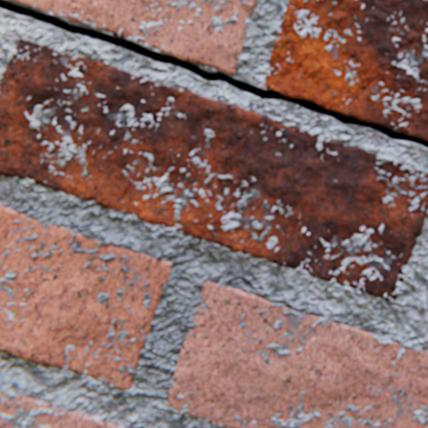brick: (0, 40, 427, 298), (167, 280, 427, 427), (0, 204, 172, 388), (264, 0, 427, 140), (13, 0, 258, 74), (0, 390, 53, 427), (27, 407, 122, 427)
crack: (0, 0, 427, 147)
